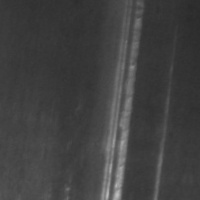scratches: (96, 6, 145, 199), (147, 71, 175, 199)
